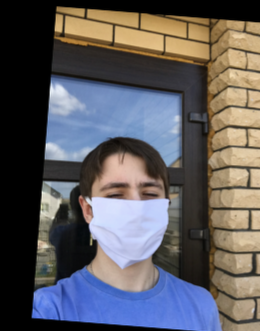with_mask: (83, 167, 168, 270)
